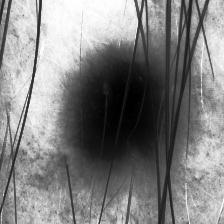Benign Marking or Mole: (72, 55, 168, 165)
